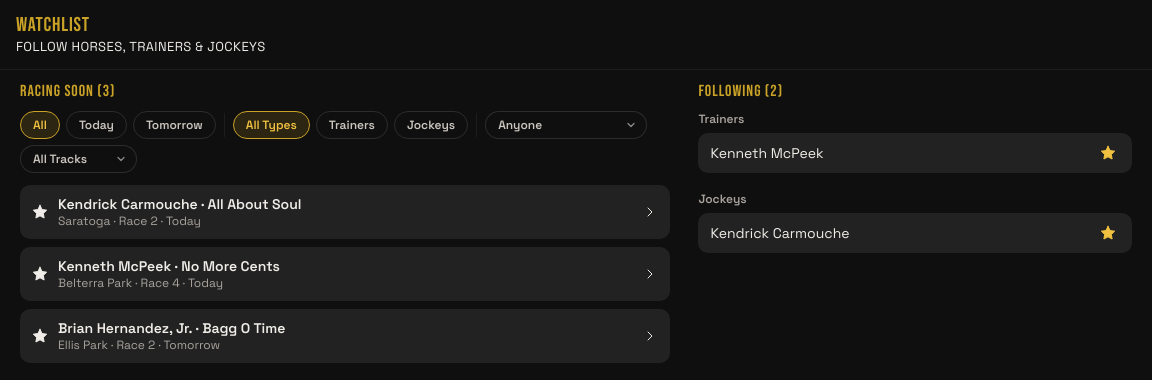
WatchlistPage racing-soon filters › filters by track
Expected: the text "Kendrick Carmouche · All About Soul" is shown, top-left (58, 195), bottom-right (302, 213)
Select "Ellis Park" in the dropdown named "Filter by track". click: (78, 159)
box: top-left (20, 145), bottom-right (137, 173)
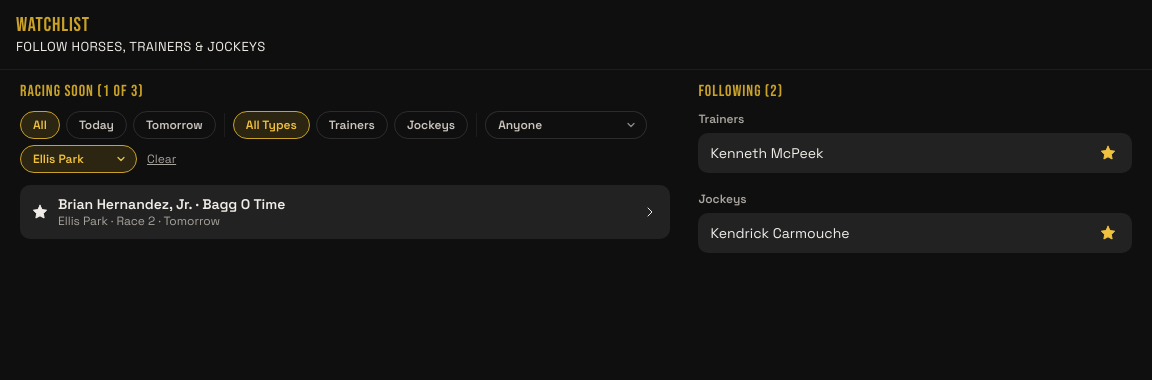
Now the text "Brian Hernandez, Jr. · Bagg O Time" is shown, box top-left (58, 195), bottom-right (285, 213)
Now the text "All About Soul" is gone
